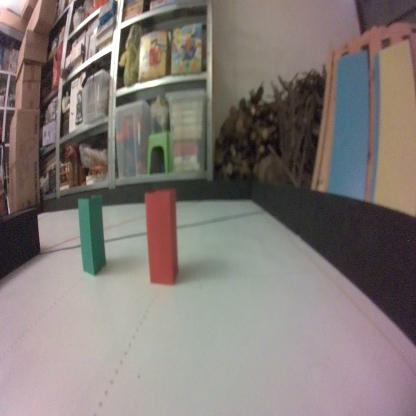green: (76, 190, 106, 275)
red: (144, 185, 180, 287)
